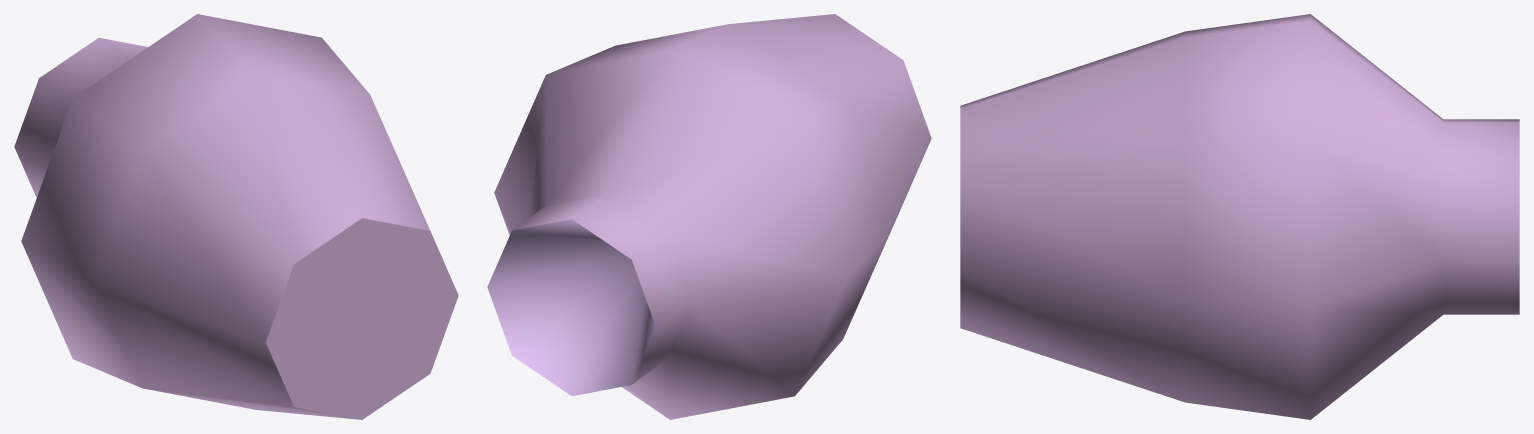
3 renders of one model, left to right at view 1: azimuth 30°, elevation 25°; view 2: azimuth 150°, elevation 25°; view 3: azimuth 270°, elevation 25°, orthographic. The views are drawn at different scales.
Visible parts, largest first — view 1: Object29; view 2: Object29; view 3: Object29.
Boxes of the visible parts, x1=… form: Object29: x1=14, y1=14, x2=458, y2=419; Object29: x1=487, y1=14, x2=931, y2=419; Object29: x1=960, y1=14, x2=1519, y2=419.
Size of the model in its own units: 3708 by 3708 by 4802.
